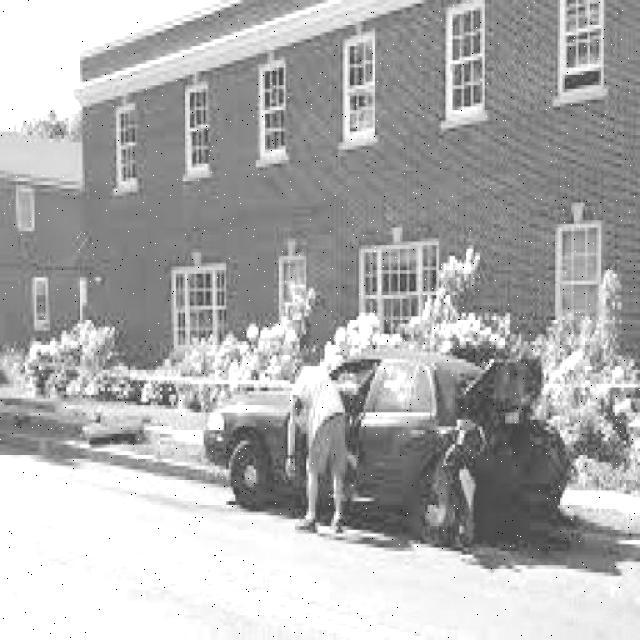car damage: (439, 364, 569, 541)
